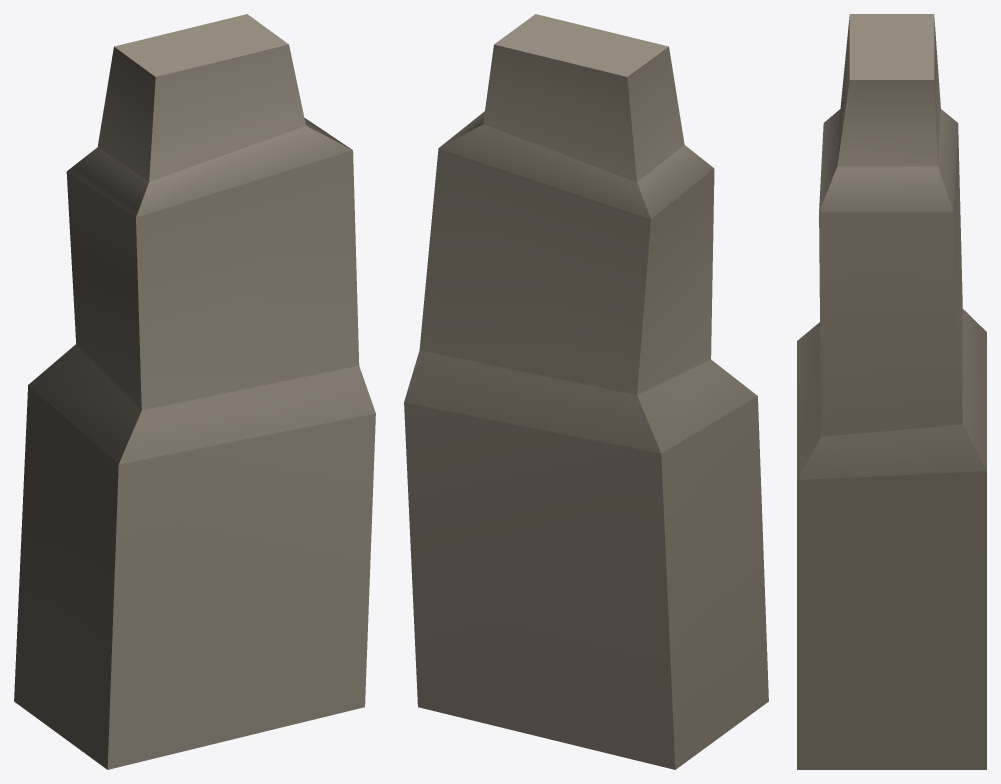
Rendered from ManmadeMore_SF_Env_StandingStone_05.fbx.
The picture shows the model from 3 angles, left to right: view 1: azimuth 30°, elevation 25°; view 2: azimuth 150°, elevation 25°; view 3: azimuth 270°, elevation 25°; orthographic projection.
Parts seen in each view (by area): view 1: SF_Env_StandingStone_05; view 2: SF_Env_StandingStone_05; view 3: SF_Env_StandingStone_05.
Part boxes in pixels (<box>): SF_Env_StandingStone_05: <box>14,14,375,769</box>; SF_Env_StandingStone_05: <box>404,14,768,769</box>; SF_Env_StandingStone_05: <box>797,14,986,769</box>.
Bounding box in the file's own units: 194 × 448 × 116.
